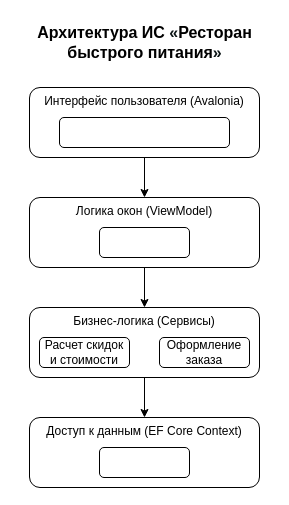
Image size: 289x505. Some labels were removed from this diagram. The centre of each missing label's shape, as x and y in pixels:
"База данных" belongs at point 144,462.
"Ввод данных" belongs at point 144,242.
"Окно оформления заказа" belongs at point 144,132.
